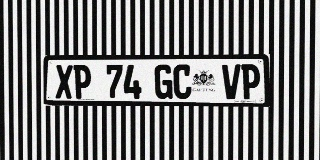4: (124, 65, 141, 99)
7: (105, 65, 123, 99)
C: (173, 64, 192, 99)
G: (155, 64, 173, 99)
P: (241, 64, 260, 99), (73, 65, 91, 99)
V: (222, 64, 241, 99)
X: (55, 65, 73, 99)
